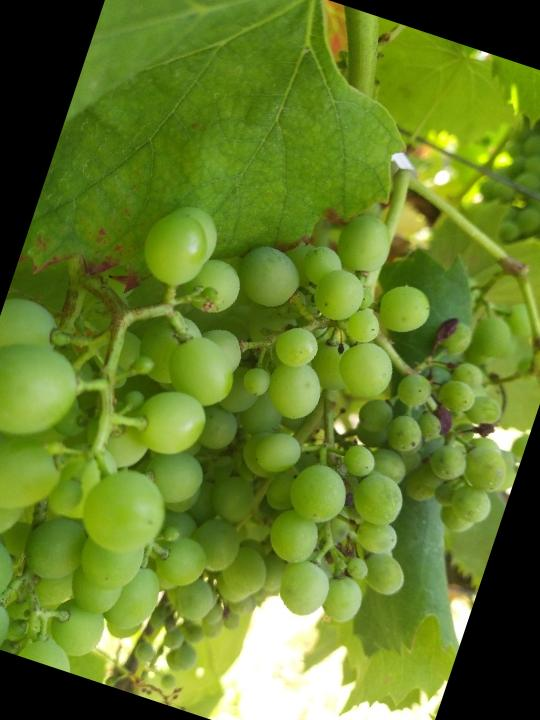grape: (0, 166, 305, 698), (203, 205, 540, 663)
